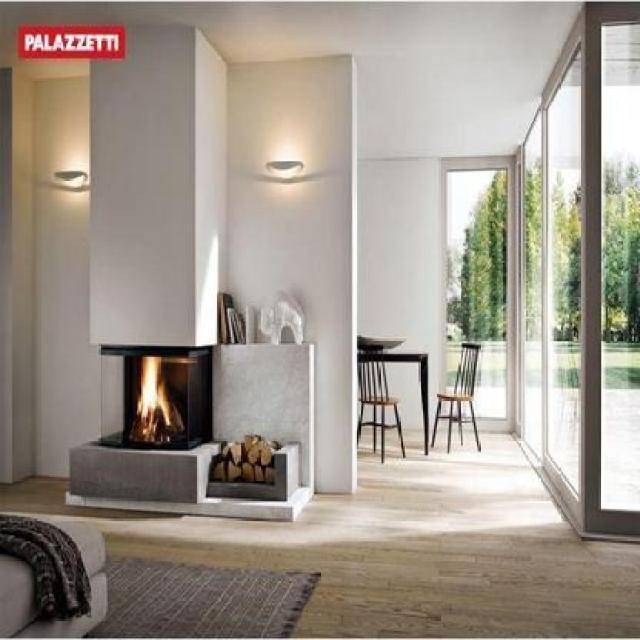Fire: (136, 356, 184, 438)
